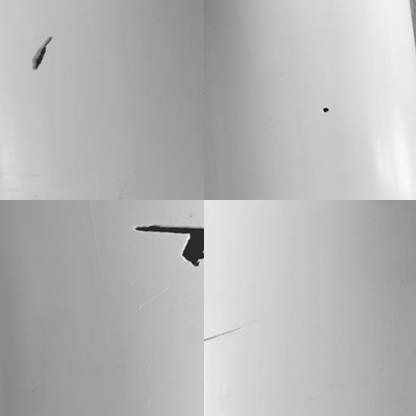kongdong: (131, 223, 205, 267), (28, 33, 54, 75)
sunshang: (201, 321, 250, 345)
